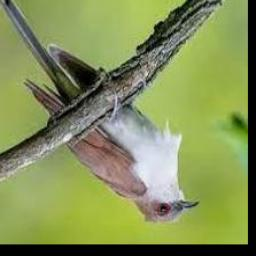Cuckoo: (0, 0, 199, 224)
